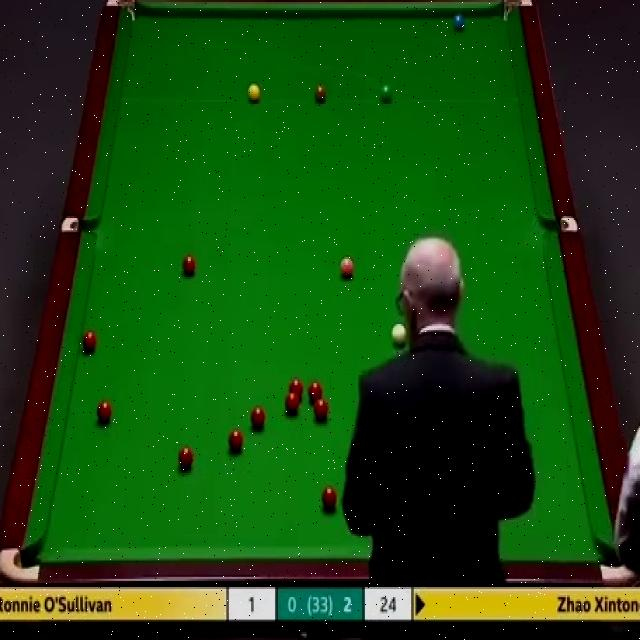blue-ball: (452, 12, 464, 34)
brown-ball: (314, 84, 328, 104)
green-ball: (378, 84, 394, 105)
pink-ball: (339, 254, 355, 283)
red-ball: (227, 427, 244, 454), (81, 329, 98, 354), (314, 396, 329, 424), (308, 378, 324, 404), (178, 444, 193, 471), (289, 377, 304, 404), (250, 404, 265, 430), (321, 486, 337, 509), (182, 252, 195, 276), (98, 400, 111, 423), (285, 392, 299, 413)
white-ball: (392, 323, 405, 346)
yellow-ball: (246, 83, 262, 104)
